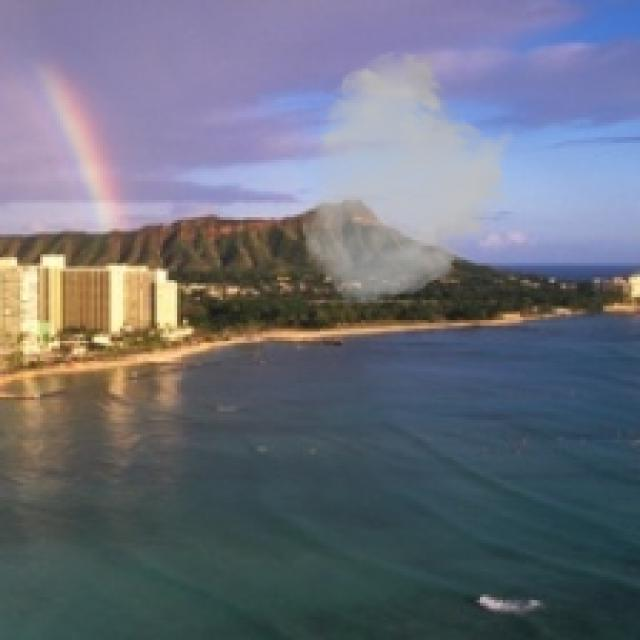Smoke: (300, 49, 517, 308)
